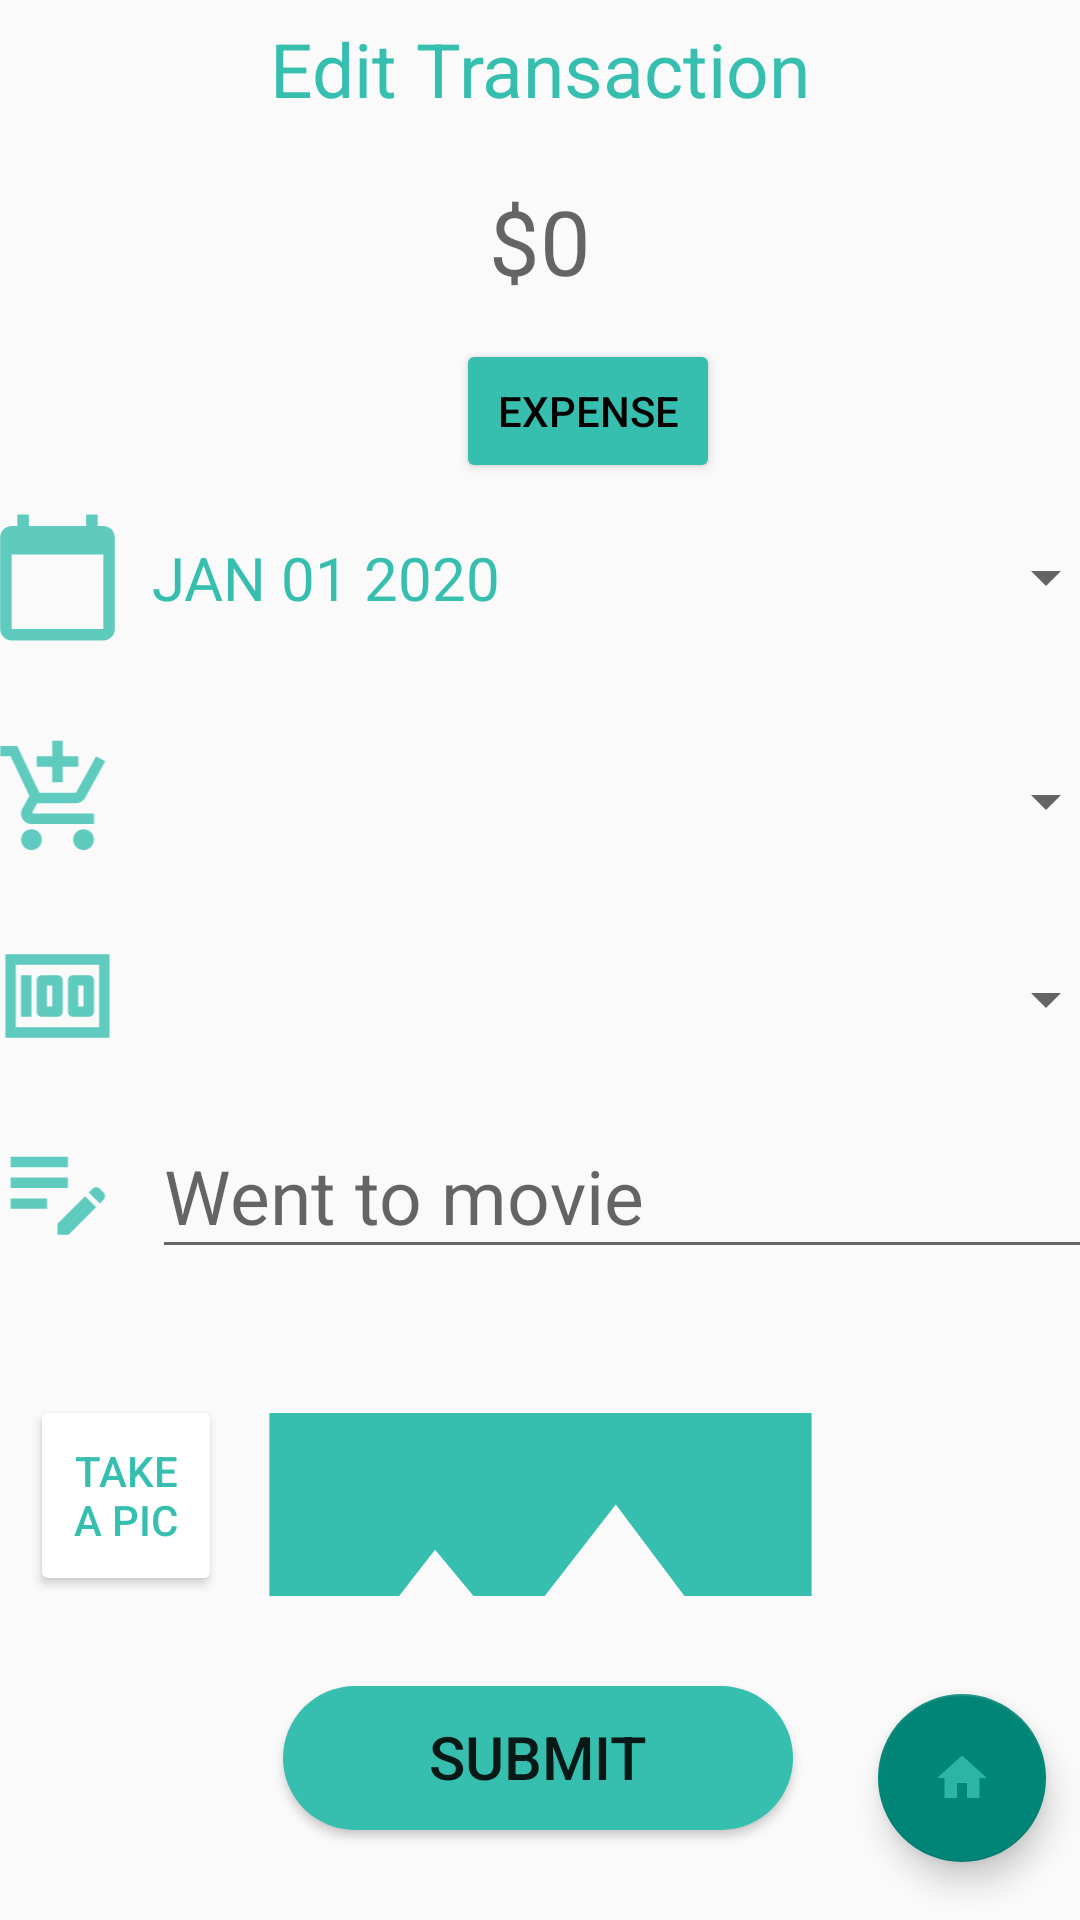

Screen size 1080w x 1920h. Icon name, then its box in pixels as (x1, y1, x2, y2):
home: (878, 1694, 1046, 1862)
